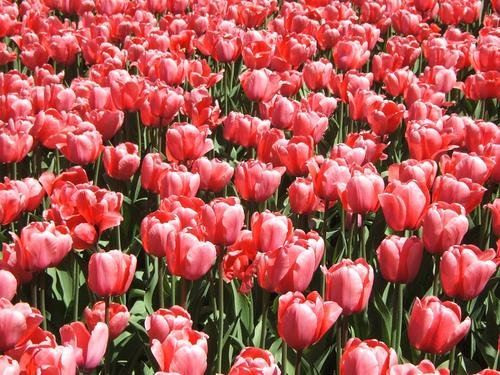tulip: (278, 289, 342, 347), (407, 294, 471, 351), (440, 245, 496, 298), (322, 257, 373, 310), (152, 328, 209, 375), (166, 227, 215, 279), (379, 179, 429, 229), (21, 222, 72, 269), (340, 335, 398, 375), (234, 155, 285, 200), (376, 234, 423, 280), (89, 250, 136, 295), (425, 200, 468, 249), (200, 196, 243, 243), (58, 123, 102, 164), (140, 210, 179, 255), (165, 122, 211, 160), (252, 209, 292, 251), (311, 157, 349, 200), (110, 71, 147, 108), (368, 97, 404, 135), (406, 119, 442, 157), (102, 142, 140, 178), (158, 171, 200, 198), (296, 108, 327, 141)
